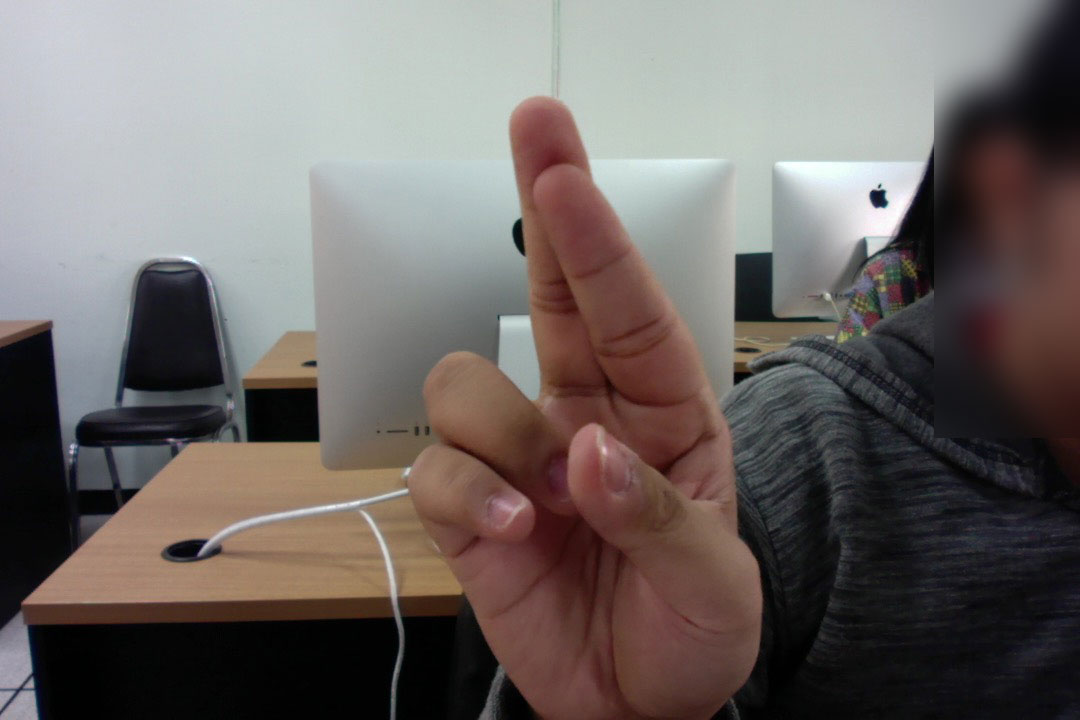rao: (390, 89, 769, 719)
